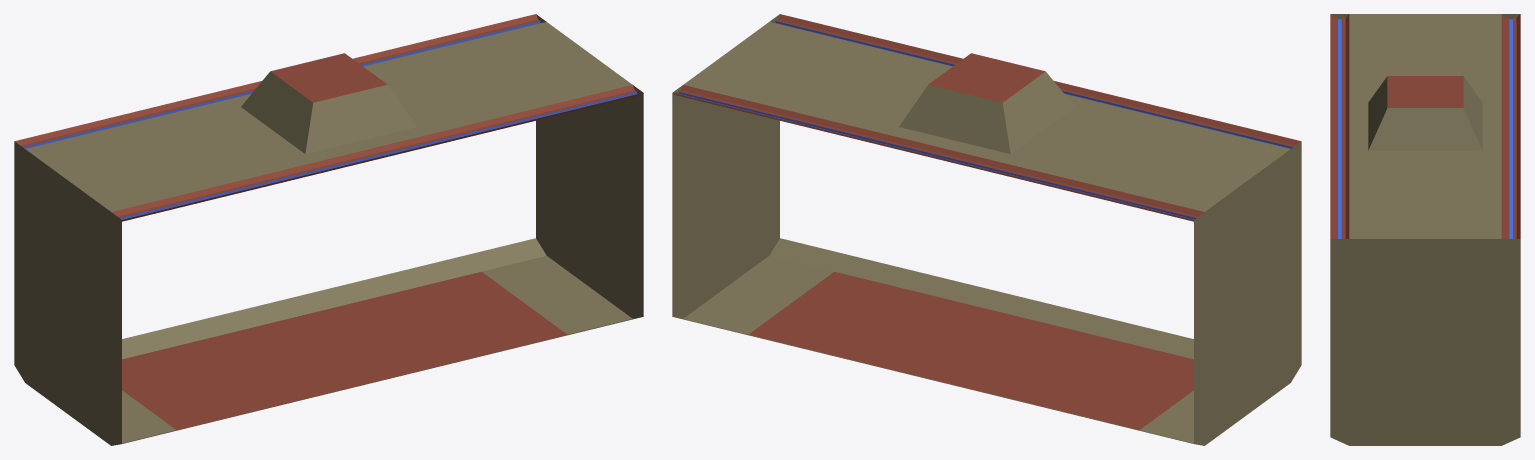
Rendered from Dragonfly_Crusher_MainRoomSlice_0.fbx.
3 renders of one model, left to right at view 1: azimuth 30°, elevation 25°; view 2: azimuth 150°, elevation 25°; view 3: azimuth 270°, elevation 25°, orthographic. The views are drawn at different scales.
Visible parts, largest first — view 1: Crusher_Room_Slice; view 2: Crusher_Room_Slice; view 3: Crusher_Room_Slice.
Boxes of the visible parts, x1,y1,x2,y2 form: Crusher_Room_Slice: (14,14,643,445); Crusher_Room_Slice: (672,14,1301,445); Crusher_Room_Slice: (1330,14,1520,445).
Bounding box in the file's own units: 28 × 14 × 10.
